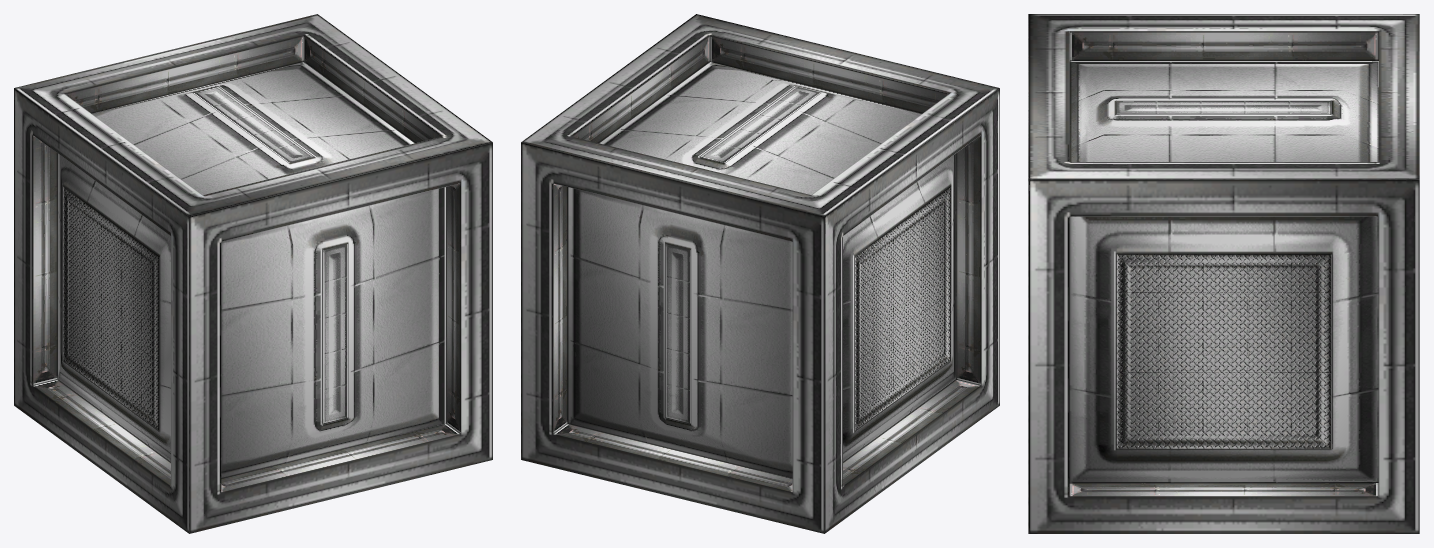
Rendered from cargo_box.glb.
The picture shows the model from 3 angles, left to right: view 1: azimuth 30°, elevation 25°; view 2: azimuth 150°, elevation 25°; view 3: azimuth 270°, elevation 25°; orthographic projection. The views are drawn at different scales.
Parts seen in each view (by area): view 1: cube1; view 2: cube1; view 3: cube1.
Boxes of the visible parts, x1,y1,x2,y2 form: cube1: (14,14,492,533); cube1: (521,14,999,533); cube1: (1028,14,1419,533).
Bounding box in the file's own units: 42.24 × 42.24 × 42.24.
1 material, 1 textured.
